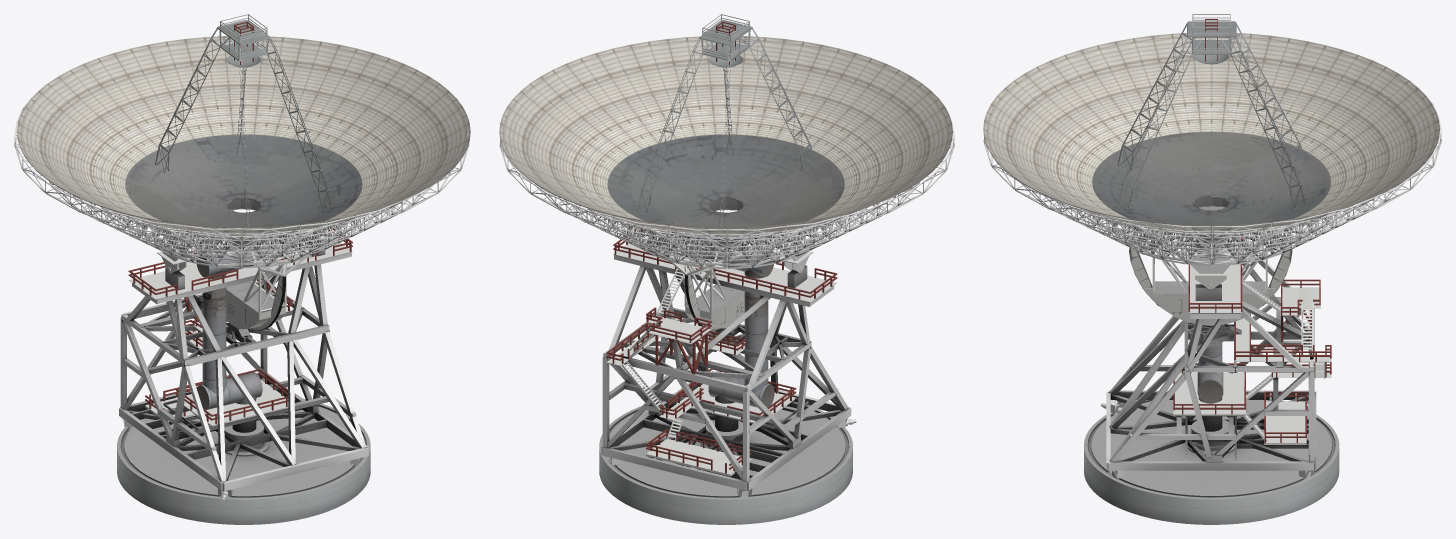
Rendered from dsn-34m.glb.
3 views of the same model, side by side, from view 1: azimuth 30°, elevation 25°; view 2: azimuth 150°, elevation 25°; view 3: azimuth 270°, elevation 25° (orthographic).
Visible parts, largest first — view 1: dish, azimuth, truss_dish, base; view 2: dish, azimuth, truss_dish, base; view 3: dish, azimuth, base, truss_dish.
Part boxes in pixels (<box>): dish: <box>17,36,470,235</box>; azimuth: <box>117,14,370,524</box>; truss_dish: <box>14,83,469,268</box>; base: <box>117,396,370,499</box>; dish: <box>499,36,952,235</box>; azimuth: <box>599,14,856,524</box>; truss_dish: <box>499,41,954,269</box>; base: <box>599,400,852,499</box>; dish: <box>983,33,1439,233</box>; azimuth: <box>1084,14,1339,524</box>; base: <box>1084,400,1339,499</box>; truss_dish: <box>983,60,1441,265</box>.
Bounding box in the file's own units: 34.19 × 36.97 × 34.13.
6 materials, 5 textured.
